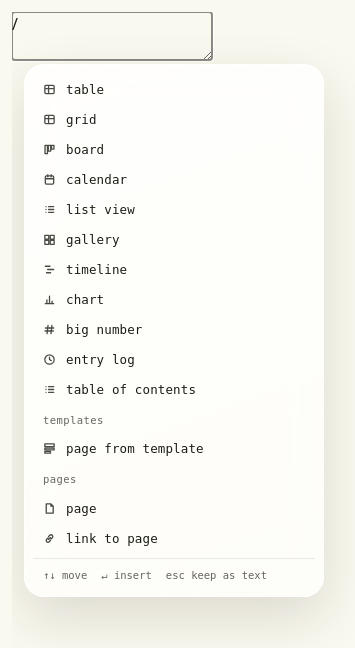
templates › ↵ on `page from template` opens the submenu: head, the twelve premade shapes, the foot
(page scrolled)
Hover over the option "page from template".
mouse_move(123, 449)  # box top-left (43, 441), bottom-right (204, 456)
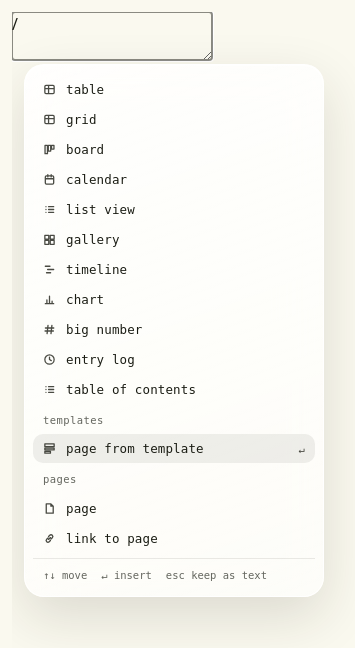
Press Enter in the text box, box top-left (12, 12), bottom-right (212, 60)
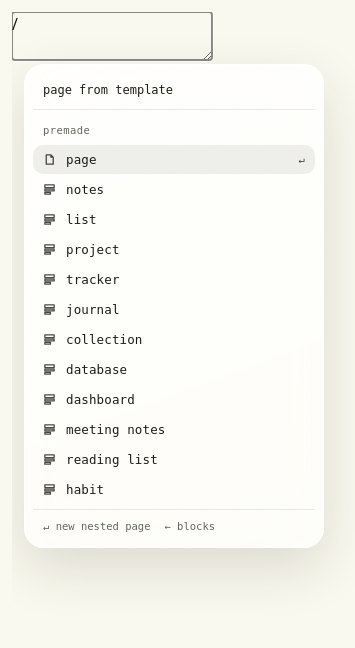
Expected: the element showing "page from template" is shown, top-left (33, 73), bottom-right (315, 110)
Expected: the element showing "↵ new nested page ← blocks" is shown, top-left (33, 509), bottom-right (315, 539)
